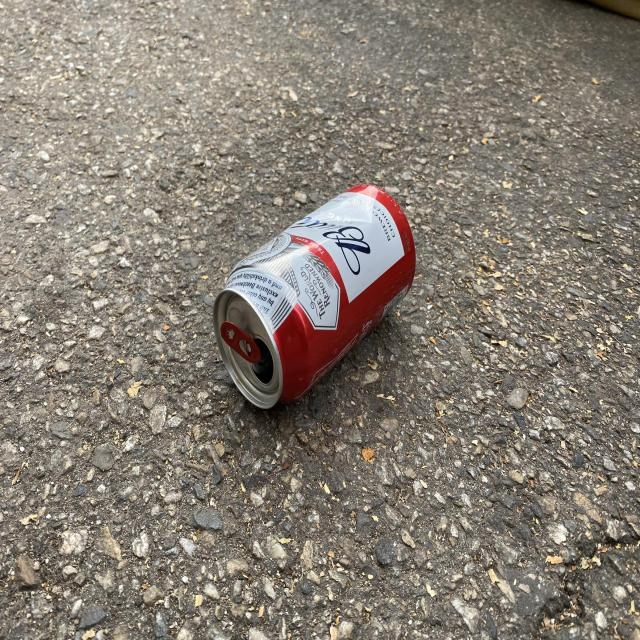can: (213, 184, 416, 409)
